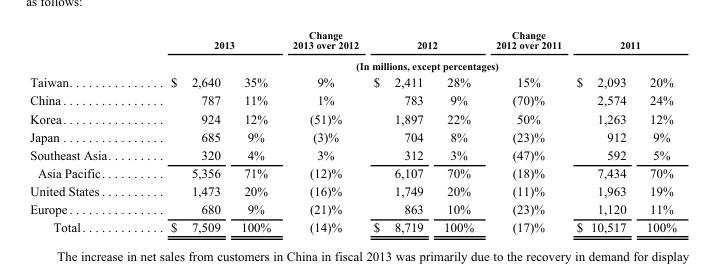table: (29, 28, 676, 233)
table column: (29, 28, 140, 233), (140, 28, 230, 233), (281, 28, 365, 233), (484, 28, 568, 233), (365, 28, 432, 233), (568, 28, 635, 233), (432, 28, 484, 233), (230, 28, 281, 233), (635, 28, 676, 233)
table column header: (29, 28, 676, 91)
table row: (29, 28, 676, 55), (29, 55, 676, 73), (29, 73, 676, 91), (29, 91, 676, 109), (29, 109, 676, 127), (29, 127, 676, 145), (29, 145, 676, 163), (29, 163, 676, 181), (29, 181, 676, 199), (29, 199, 676, 217), (29, 217, 676, 233)
table spanning cell: (140, 55, 676, 73), (29, 28, 140, 91), (140, 28, 281, 55), (365, 28, 484, 55), (568, 28, 676, 55)
